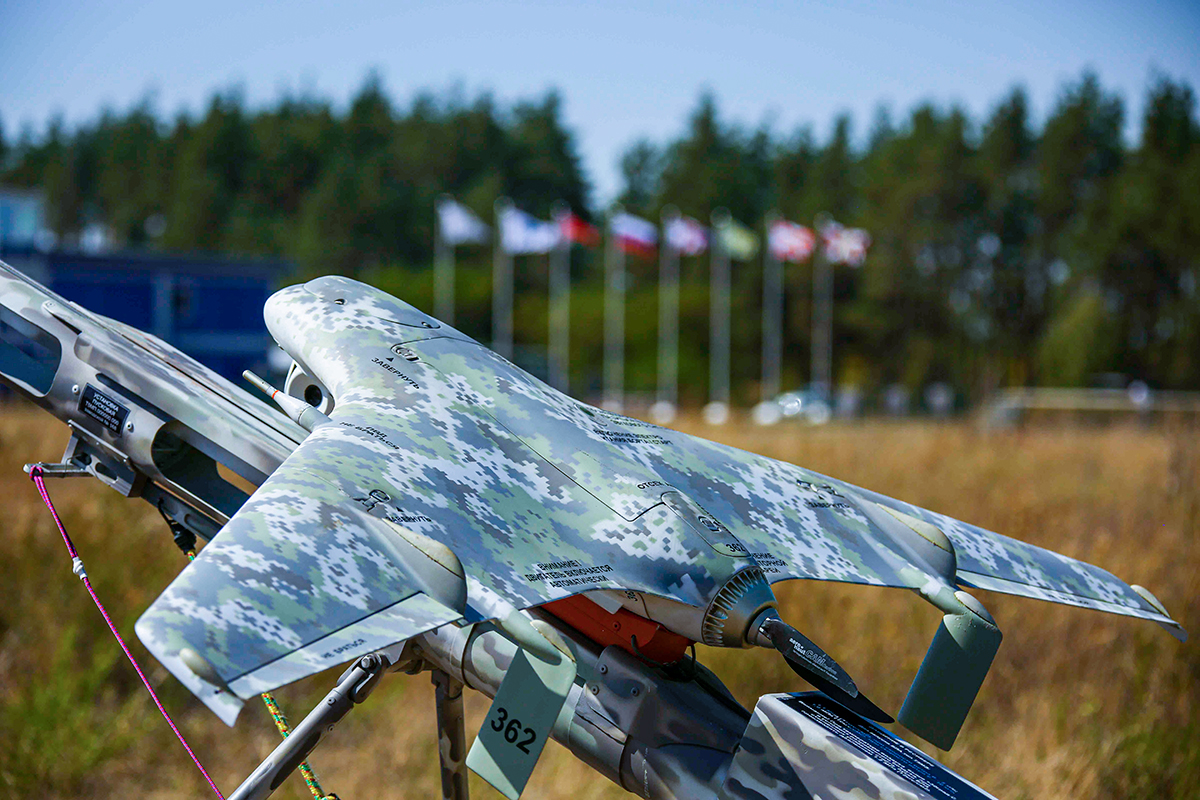military drone: (134, 274, 1184, 728)
